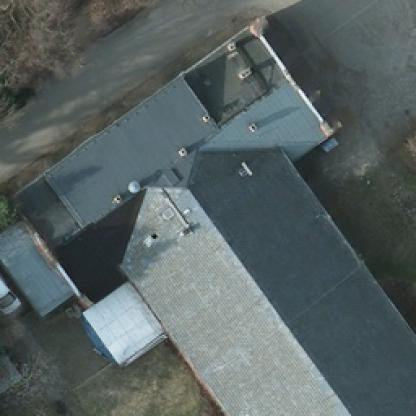car: (0, 260, 23, 315)
